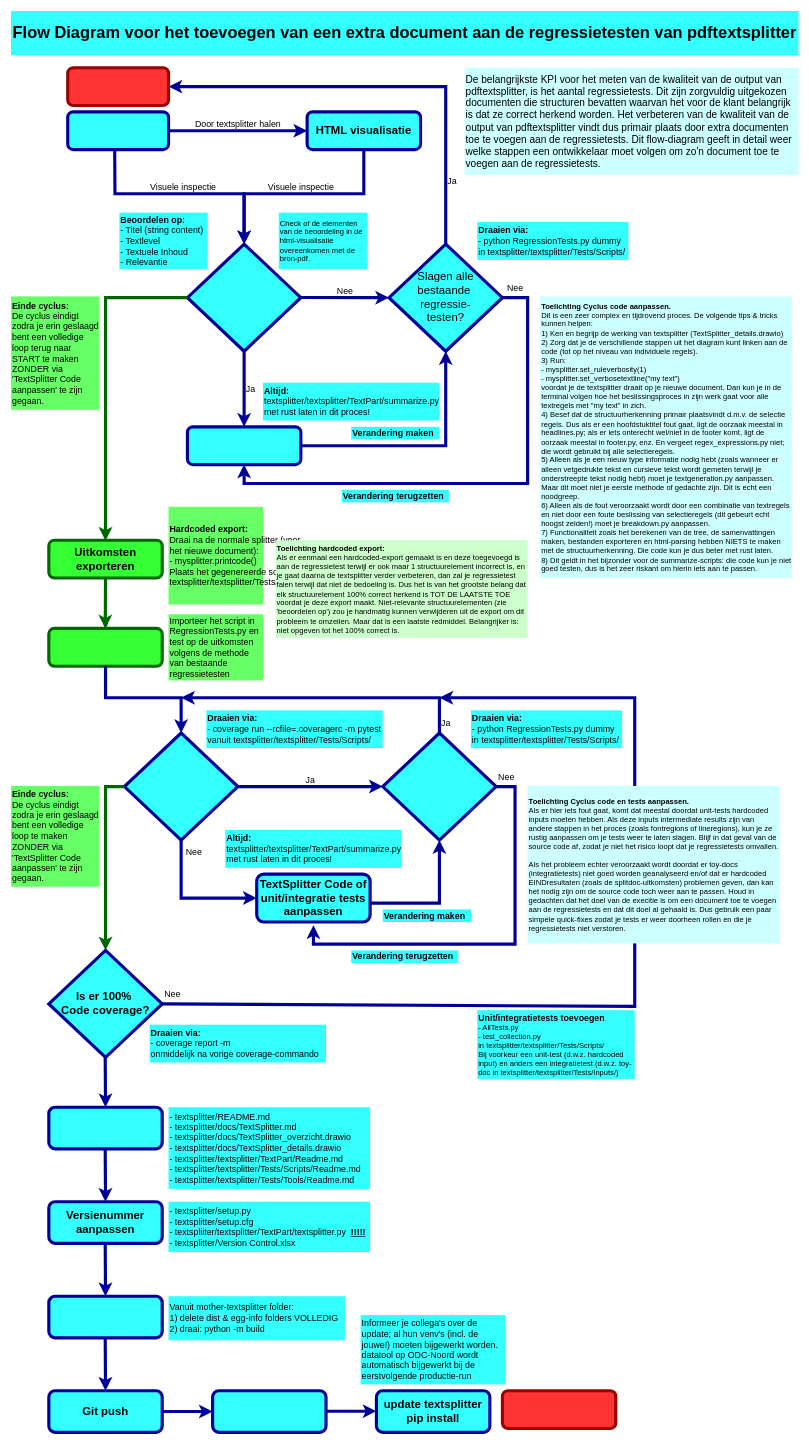
The diagram is 809 pixels wide and 1445 high, and some of its shapes have lost their labels. Each missing label, with the centre of its shape:
"Documentatie aanpassen" belongs at [105,1127].
"END" belongs at [559,1409].
"Genereer nieuwe build" belongs at [105,1316].
"Merge into main" belongs at [269,1411].
"PDF document" belongs at [118,130].
"Slagen alle bestaande & nieuwe regressie- testen?" belongs at [439,786].
"Slagen alle unit- en integratietests?" belongs at [181,786].
"START" belongs at [118,86].
"TextSplitter Code aanpassen" belongs at [244,445].
"Toevoegen aan regressietests" belongs at [105,647].
"Zijn er incorrecte structuur- elementen?" belongs at [244,297].
